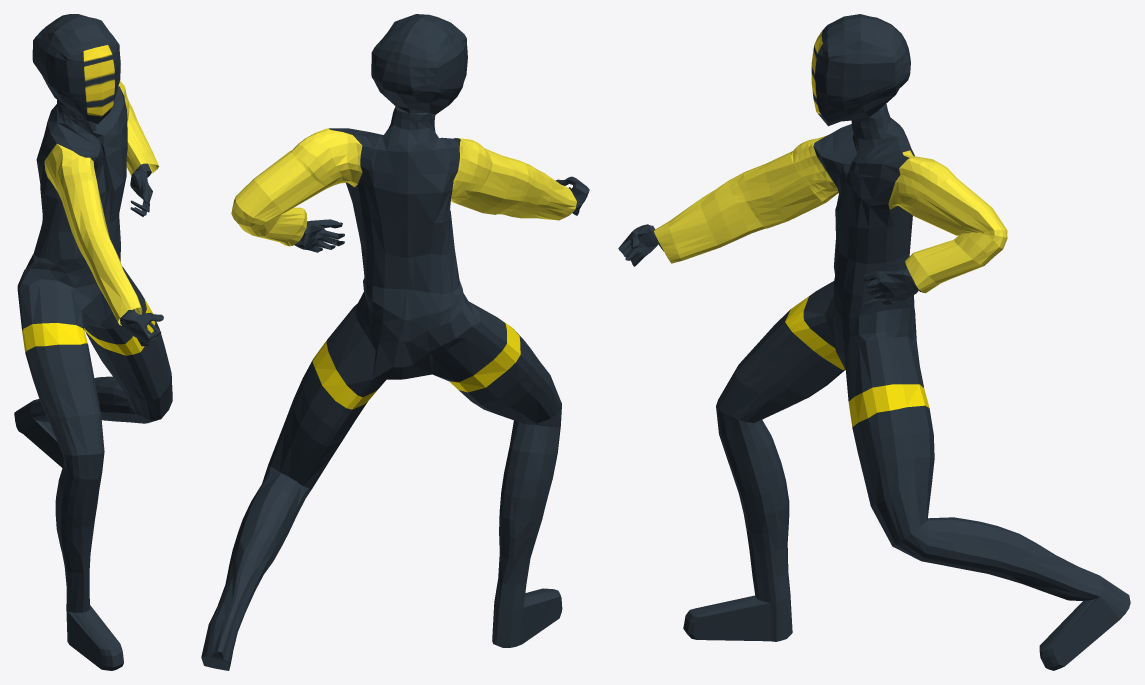
The model's file is Sentry_WR_000021.obj.
The picture shows the model from 3 angles, left to right: view 1: azimuth 30°, elevation 25°; view 2: azimuth 150°, elevation 25°; view 3: azimuth 270°, elevation 25°; orthographic projection. The views are drawn at different scales.
Visible parts, largest first — view 1: Cube; view 2: Cube; view 3: Cube.
Part boxes in pixels (x1,y1,x2,y2): Cube: [14, 14, 172, 670]; Cube: [201, 14, 589, 670]; Cube: [618, 14, 1130, 670].
Bounding box in the file's own units: 1.21 × 3.6 × 2.61.
